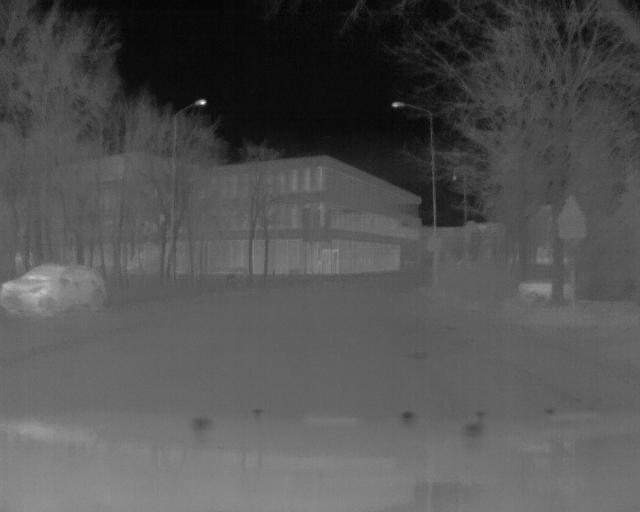car: (3, 258, 112, 324)
